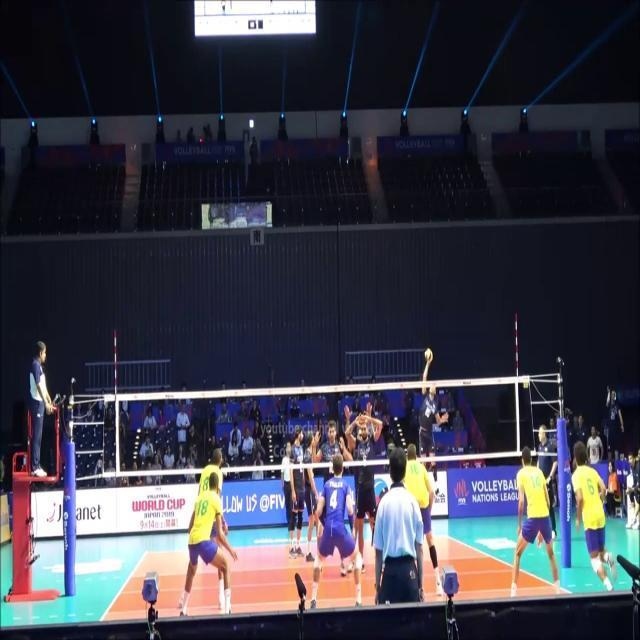volleyball: (424, 349, 433, 362)
